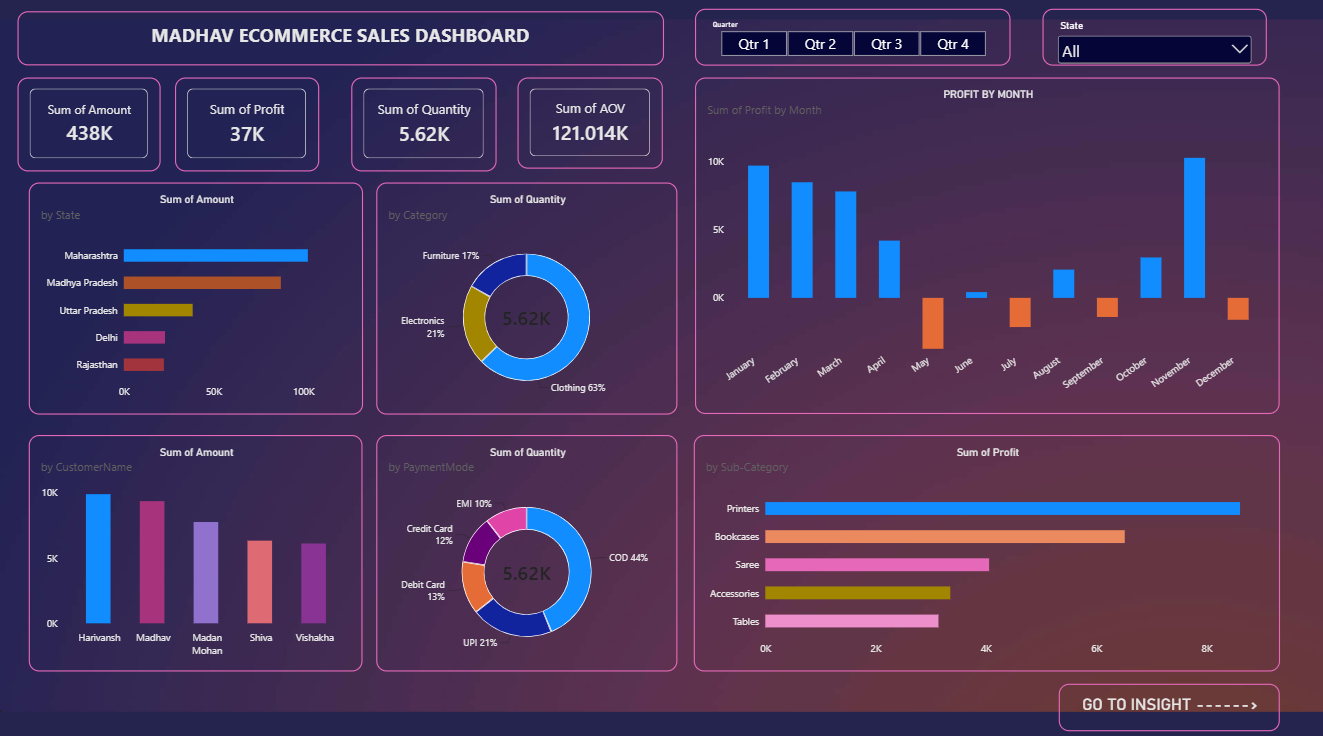

The dashboard page shown, as its layout file describes it:
{"tool":"powerbi","page":{"name":"Dashboard","canvas":[1920,1080],"ordinal":0},"visuals":[{"type":"textbox","box":[25,23.2,935.7,78.6],"z":0},{"type":"columnChart","title":"PROFIT BY MONTH ","fields":{"Y":["Sum(Details.Profit)"],"Category":["Orders.Order Date.Variation.Date Hierarchy.Month"]},"box":[1005.4,119.6,846.4,487.5],"z":1000},{"type":"barChart","fields":{"Category":["Details.Sub-Category"],"Y":["Sum(Details.Profit)"]},"box":[1004.4,637,848.7,342],"z":2000},{"type":"donutChart","fields":{"Y":["Sum(Details.Quantity)"],"Category":["Details.Category"]},"box":[544.6,271.4,435.7,335.7],"z":3000},{"type":"donutChart","fields":{"Y":["Sum(Details.Quantity)"],"Category":["Details.PaymentMode"]},"box":[544.7,637,436.1,342],"z":4000},{"type":"cardVisual","fields":{"Data":["Sum(Details.Amount)"]},"box":[25,119.6,207.1,135.7],"z":5000},{"type":"cardVisual","fields":{"Data":["Sum(Details.Profit)"]},"box":[253.6,119.6,208.9,135.7],"z":6000},{"type":"cardVisual","fields":{"Data":["Sum(Details.Quantity)"]},"box":[508.9,119.6,210.7,135.7],"z":7000},{"type":"cardVisual","fields":{"Data":["Sum(Details.AOV)"]},"box":[750,119.6,210.7,132.1],"z":8000},{"type":"barChart","fields":{"Y":["Sum(Details.Amount)"],"Category":["Orders.State"]},"box":[41.1,271.4,483.9,335.7],"z":9000},{"type":"columnChart","fields":{"Category":["Orders.CustomerName"],"Y":["Sum(Details.Amount)"]},"box":[41.6,637,483.2,342],"z":10000},{"type":"slicer","fields":{"Values":["Orders.State"]},"box":[1508.9,19.6,325,82.1],"z":11000},{"type":"slicer","fields":{"Values":["Orders.Order Date.Variation.Date Hierarchy.Quarter"]},"box":[1005.4,19.6,457.1,82.1],"z":12000},{"type":"actionButton","title":"GO TO INSIGHT ------>","box":[1532.8,998.9,320.3,68.8],"z":12001}]}

Visuals, with their boxes in screenshot pixels (x1, y1, x2, y2), scaled from the page's 1920x1080 canvas onto the 1323x736 screenshot:
textbox: bbox=[17, 16, 662, 69]
"PROFIT BY MONTH " columnChart: bbox=[693, 82, 1276, 414]
barChart - Details.Sub-Category x Sum(Details.Profit): bbox=[692, 434, 1277, 667]
donutChart - Sum(Details.Quantity) x Details.Category: bbox=[375, 185, 675, 414]
donutChart - Sum(Details.Quantity) x Details.PaymentMode: bbox=[375, 434, 676, 667]
cardVisual - Sum(Details.Amount): bbox=[17, 82, 160, 174]
cardVisual - Sum(Details.Profit): bbox=[175, 82, 319, 174]
cardVisual - Sum(Details.Quantity): bbox=[351, 82, 496, 174]
cardVisual - Sum(Details.AOV): bbox=[517, 82, 662, 172]
barChart - Sum(Details.Amount) x Orders.State: bbox=[28, 185, 362, 414]
columnChart - Orders.CustomerName x Sum(Details.Amount): bbox=[29, 434, 362, 667]
slicer - Orders.State: bbox=[1040, 13, 1264, 69]
slicer - Orders.Order Date.Variation.Date Hierarchy.Quarter: bbox=[693, 13, 1008, 69]
"GO TO INSIGHT ------>" actionButton: bbox=[1056, 681, 1277, 728]
